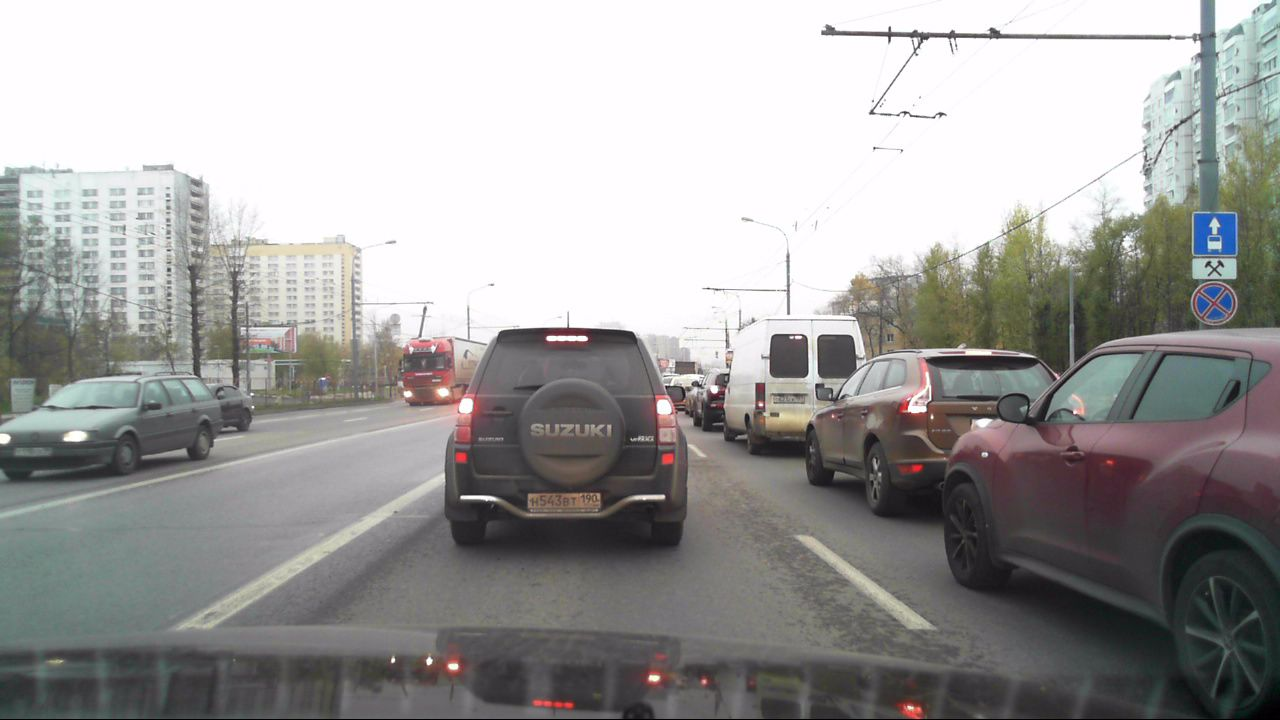No Parking: (1189, 285, 1240, 328)
